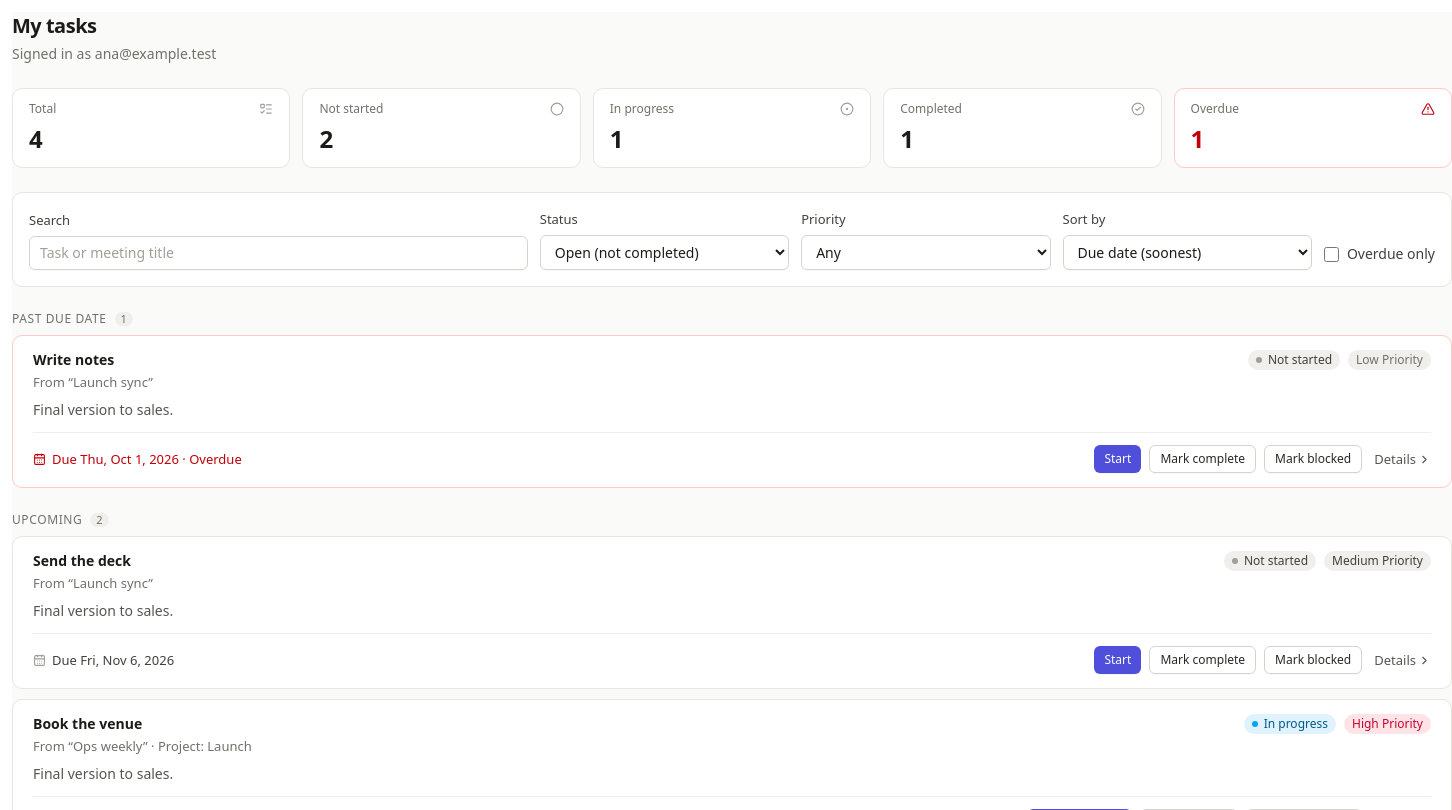
Scenario: employee dashboard › shows a conflict when the task changed elsewhere
Click the button "Mark complete" in the row of "Fri, Nov 6, 2026" at point(1203, 660), box [1149, 646, 1256, 674]
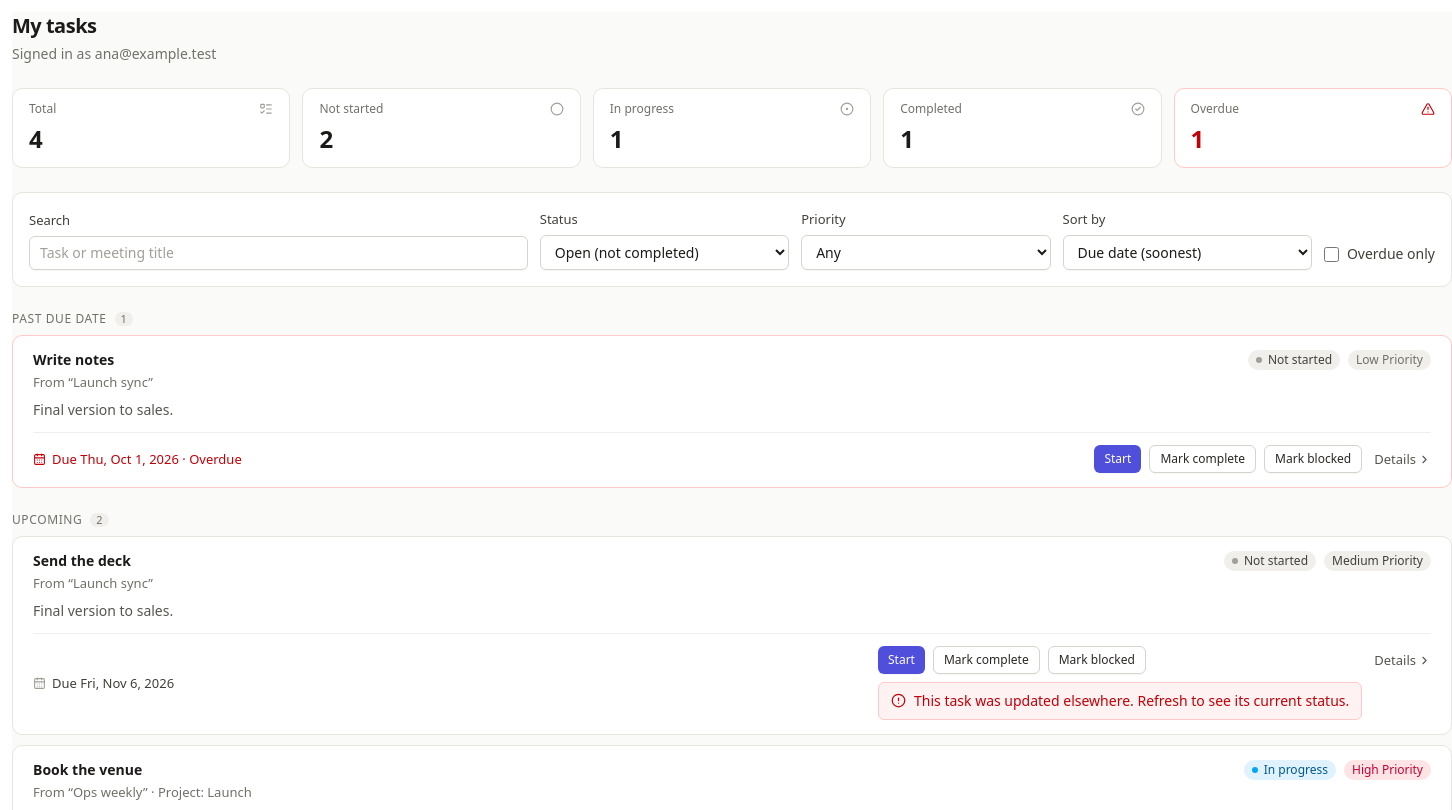
Now the text "updated elsewhere" is shown, box [914, 691, 1349, 710]
